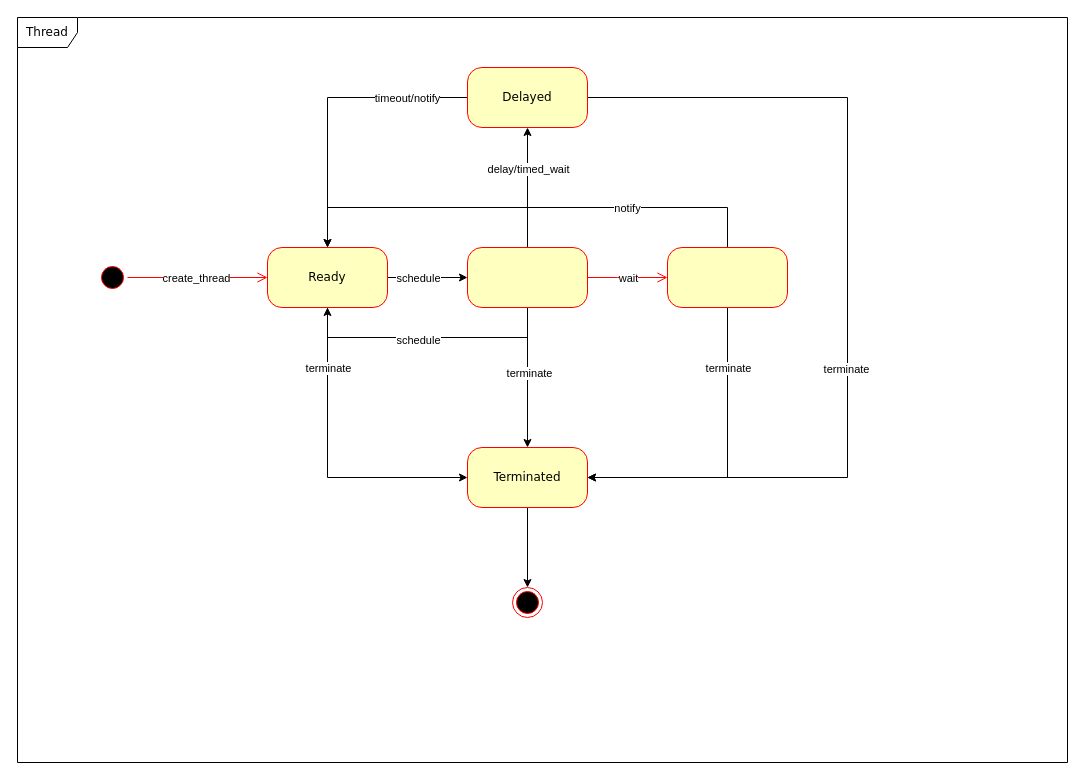
Some shapes in this 1085 by 780 pixel diagram are drawn without their labels. Here are the shapes that lost their labels. From the top down, the centre of each, then its label:
At [527,277]: "Running".
At [727,277]: "Blocked".
